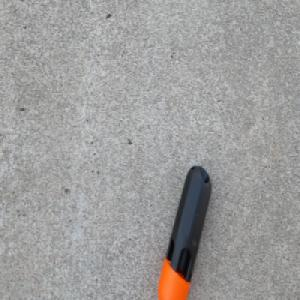PlasticPart: (155, 162, 212, 300)
